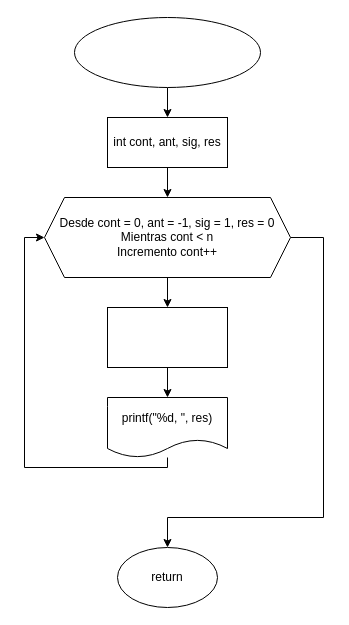
This 349x625 diagram has some shape labels left out. The shapes that lost their labels are listed below. From the top down, each one's centre as x and y in pixels, then its label:
At point (167, 52): "void calcularFibonacci(int n)".
At point (167, 337): "ant = sig sig = res res = ant + sig".
